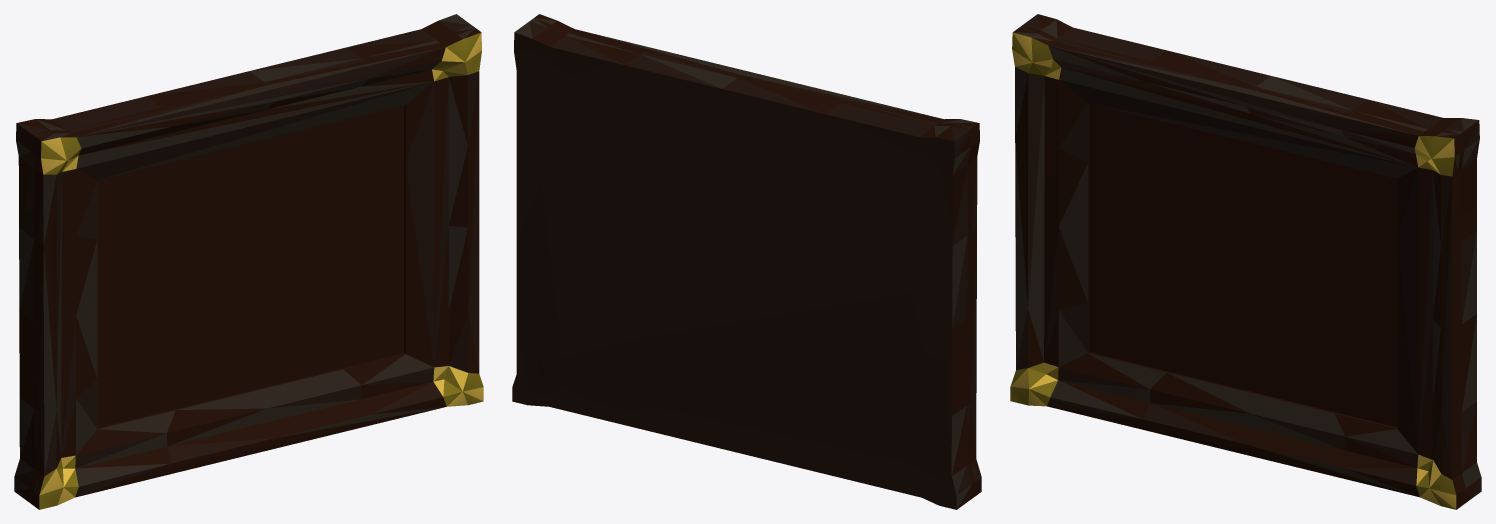
Rendered from cuadro.FBX.
3 views of the same model, side by side, from view 1: azimuth 30°, elevation 25°; view 2: azimuth 150°, elevation 25°; view 3: azimuth 330°, elevation 25° (orthographic).
Visible parts, largest first — view 1: Box002; view 2: Box002; view 3: Box002.
Part boxes in pixels (x1,y1,x2,y2): Box002: (14,14,483,509); Box002: (512,14,981,509); Box002: (1010,14,1481,509).
Bounding box in the file's own units: 135 × 107 × 14.8.
